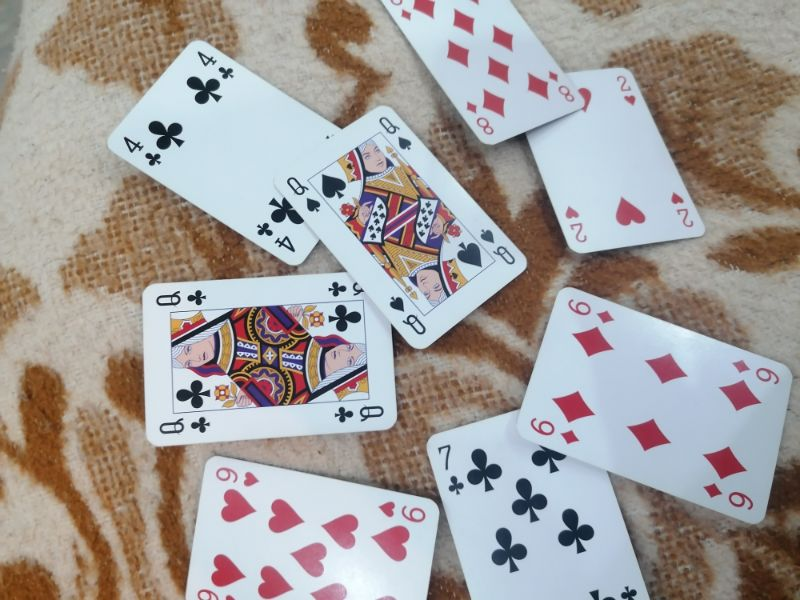2h: (559, 198, 595, 250), (664, 186, 703, 234), (610, 71, 646, 113)
4c: (252, 216, 307, 261), (113, 130, 167, 172), (190, 48, 241, 86)
6d: (561, 290, 621, 330), (725, 351, 784, 390), (703, 478, 760, 518), (524, 414, 585, 450)
7c: (432, 439, 472, 503)
8d: (459, 95, 499, 143), (545, 64, 582, 108)
9h: (373, 491, 430, 527), (211, 461, 265, 493)
Qc: (327, 395, 395, 430), (154, 407, 217, 443), (149, 282, 215, 315)
Qs: (384, 289, 435, 344), (473, 222, 521, 272), (373, 112, 419, 159), (281, 172, 327, 216)
